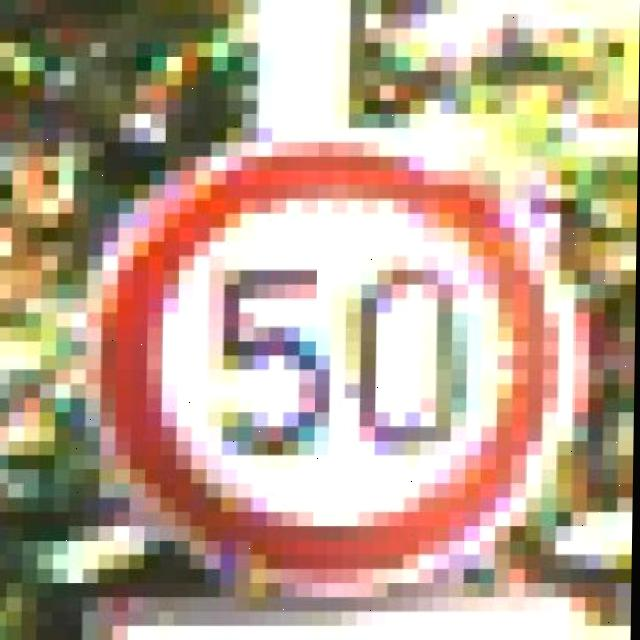Speed limit 50: (92, 138, 607, 604)
